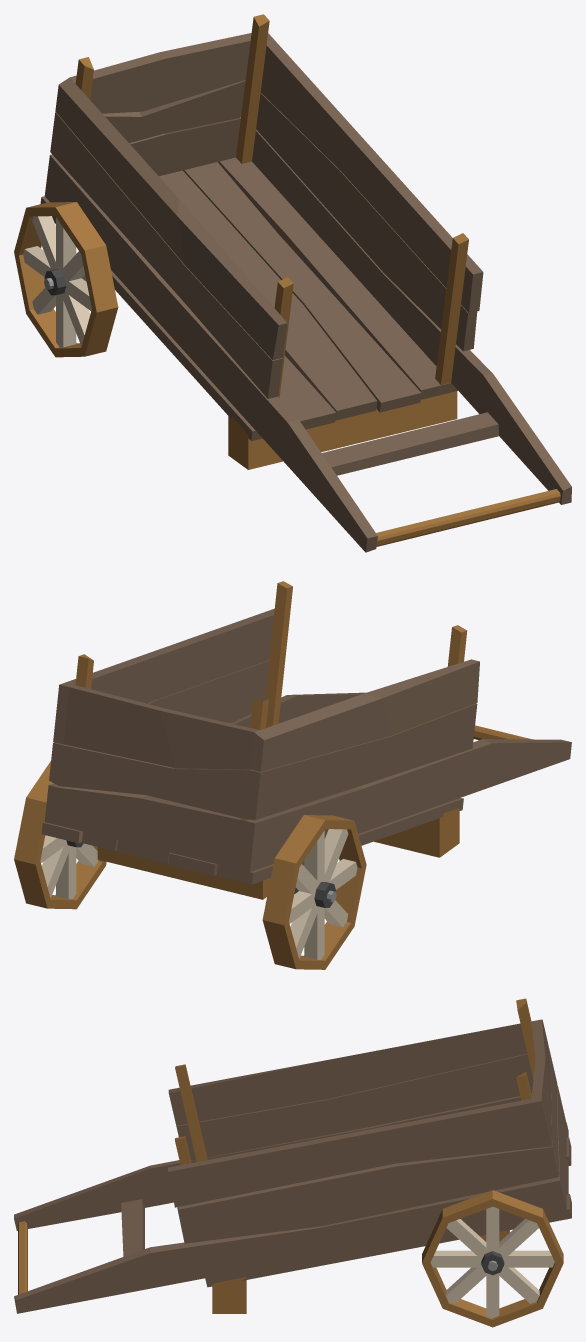
File: Cart_2.fbx
The picture shows the model from 3 angles, top to bottom: view 1: azimuth 30°, elevation 25°; view 2: azimuth 150°, elevation 25°; view 3: azimuth 270°, elevation 25°; orthographic projection. The views are drawn at different scales.
Visible parts, largest first — view 1: Cart_2; view 2: Cart_2; view 3: Cart_2.
Boxes of the visible parts, <box> form: Cart_2: <box>14,14,571,552</box>; Cart_2: <box>14,581,571,969</box>; Cart_2: <box>14,998,571,1327</box>.
Size of the model in its own units: 168 by 329 by 152.
